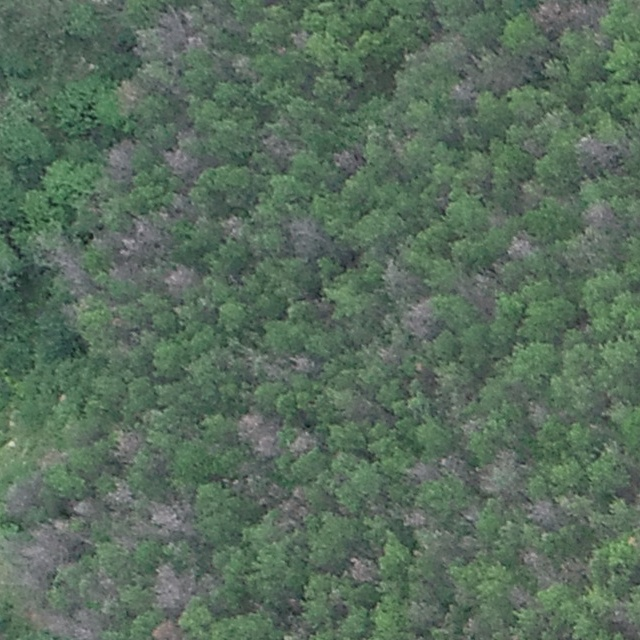unhealthy: (133, 6, 203, 59), (17, 519, 81, 576), (111, 213, 169, 262), (42, 238, 89, 296), (476, 448, 523, 496), (236, 410, 278, 458), (151, 561, 191, 610), (282, 213, 326, 257), (455, 270, 496, 317), (147, 498, 196, 537), (485, 54, 531, 94), (574, 132, 621, 171), (3, 475, 43, 519), (273, 486, 311, 529), (401, 296, 437, 340), (103, 137, 136, 182), (380, 259, 419, 296), (160, 146, 202, 178), (518, 547, 554, 584), (28, 606, 70, 637), (342, 392, 385, 422), (530, 1, 569, 33), (259, 131, 300, 160), (581, 199, 618, 231), (70, 607, 105, 640), (111, 428, 145, 460), (89, 570, 119, 606), (164, 263, 200, 293), (404, 597, 439, 626), (558, 554, 589, 586), (607, 601, 637, 634), (506, 230, 537, 261), (345, 553, 378, 582), (525, 498, 559, 526), (440, 451, 471, 481), (565, 0, 603, 24), (104, 479, 135, 508), (66, 495, 101, 520), (448, 77, 479, 105), (116, 77, 143, 109), (331, 147, 364, 173), (402, 458, 437, 482), (108, 261, 140, 287), (36, 445, 69, 470), (229, 52, 258, 80), (217, 213, 246, 241), (287, 426, 316, 454), (151, 618, 183, 640), (506, 583, 533, 609), (17, 570, 46, 594), (109, 528, 138, 552), (525, 397, 551, 423), (287, 353, 317, 375), (401, 506, 426, 528), (173, 125, 198, 146), (375, 343, 400, 364), (520, 135, 544, 156), (292, 28, 309, 46)
